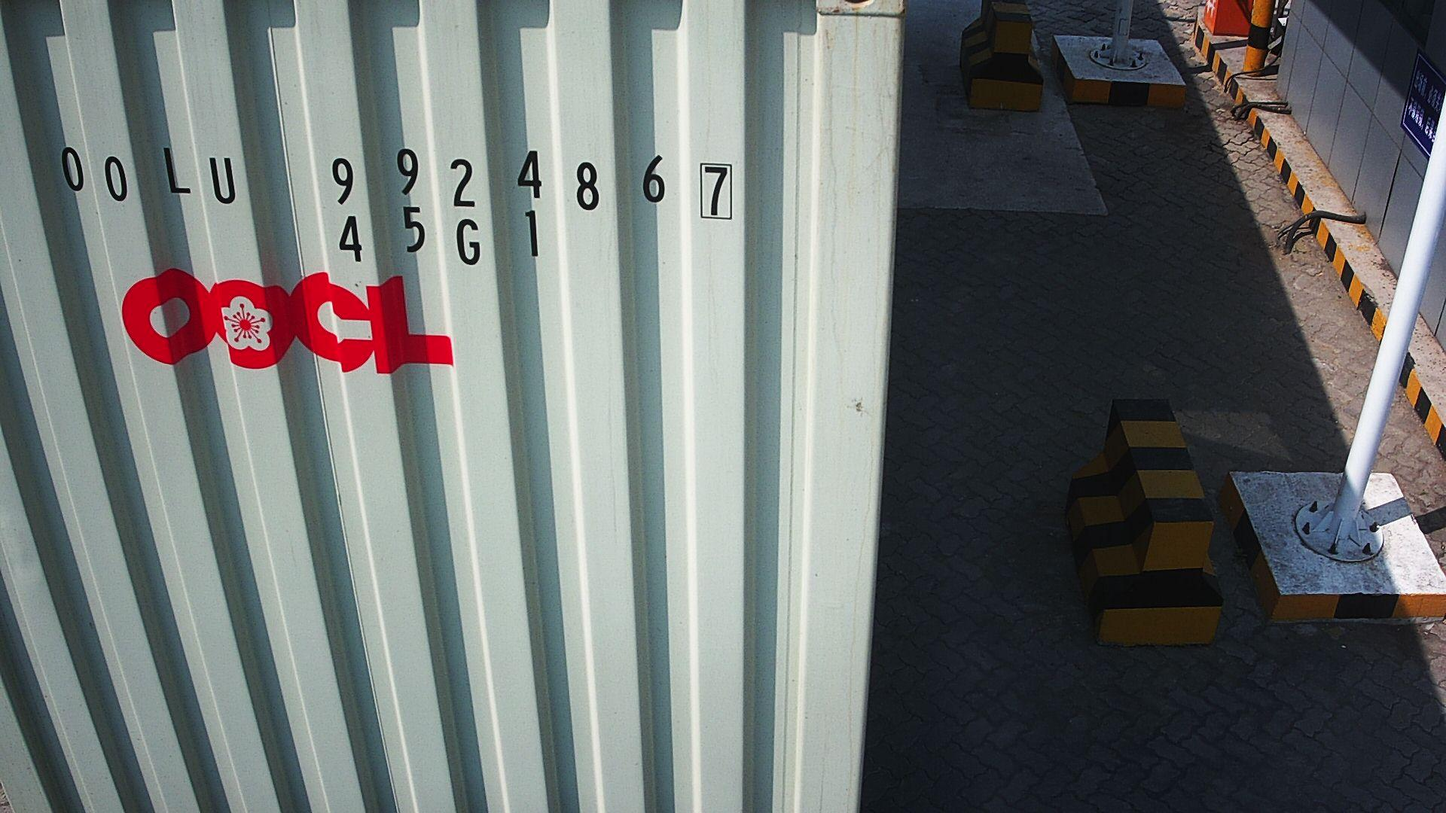container-numbers: (53, 145, 741, 222), (332, 206, 546, 268)
